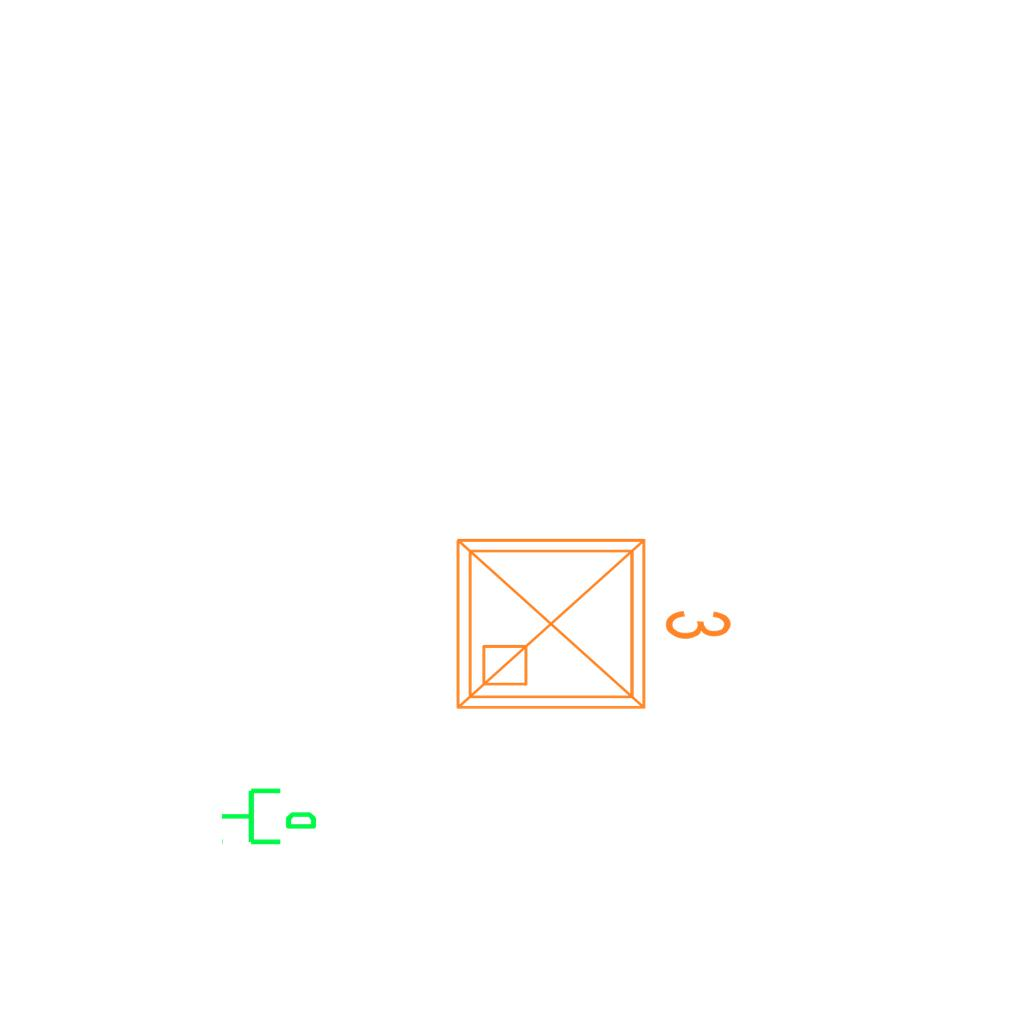Datenanschluss_einfach: (219, 780, 319, 849)
Einbaudownlights_LED_Konferenzraeume: (442, 516, 742, 724)
